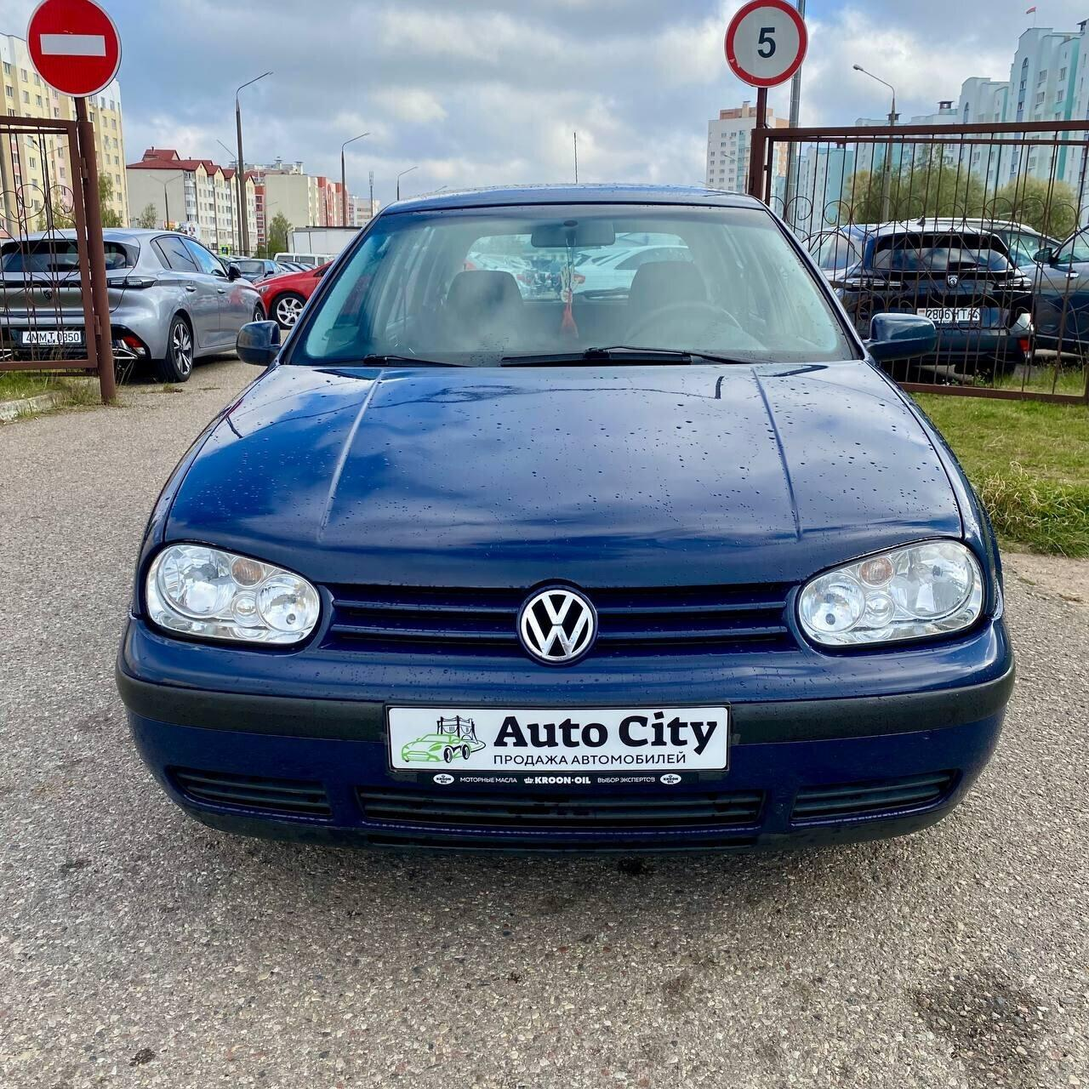Golf_1997-2006: (111, 179, 1018, 863)
